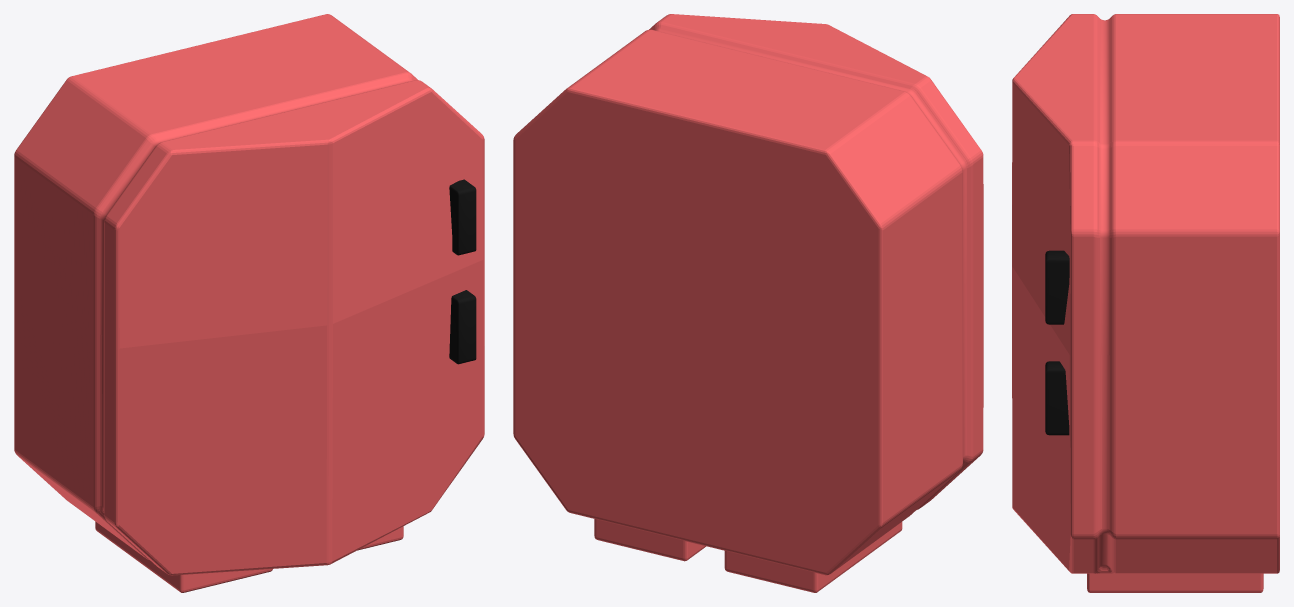
File: Fridge.fbx
3 renders of one model, left to right at view 1: azimuth 30°, elevation 25°; view 2: azimuth 150°, elevation 25°; view 3: azimuth 270°, elevation 25°, orthographic.
Visible parts, largest first — view 1: Fridge, Handle.007, Handle.006; view 2: Fridge; view 3: Fridge, Handle.007, Handle.006.
Boxes of the visible parts, left/top/right/bottom form: Fridge: left=14, top=14, right=484, bottom=592; Handle.007: left=449, top=179, right=476, bottom=255; Handle.006: left=449, top=290, right=476, bottom=364; Fridge: left=513, top=14, right=983, bottom=592; Fridge: left=1012, top=14, right=1279, bottom=592; Handle.007: left=1045, top=250, right=1069, bottom=324; Handle.006: left=1045, top=361, right=1069, bottom=435.
Bounding box in the file's own units: 147 × 173 × 90.91.
